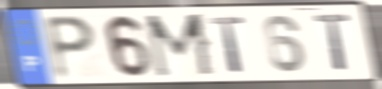6: (102, 13, 152, 81), (262, 13, 309, 75)
M: (142, 11, 217, 80)
P: (42, 14, 98, 82)
T: (312, 12, 354, 74), (207, 15, 248, 75)
